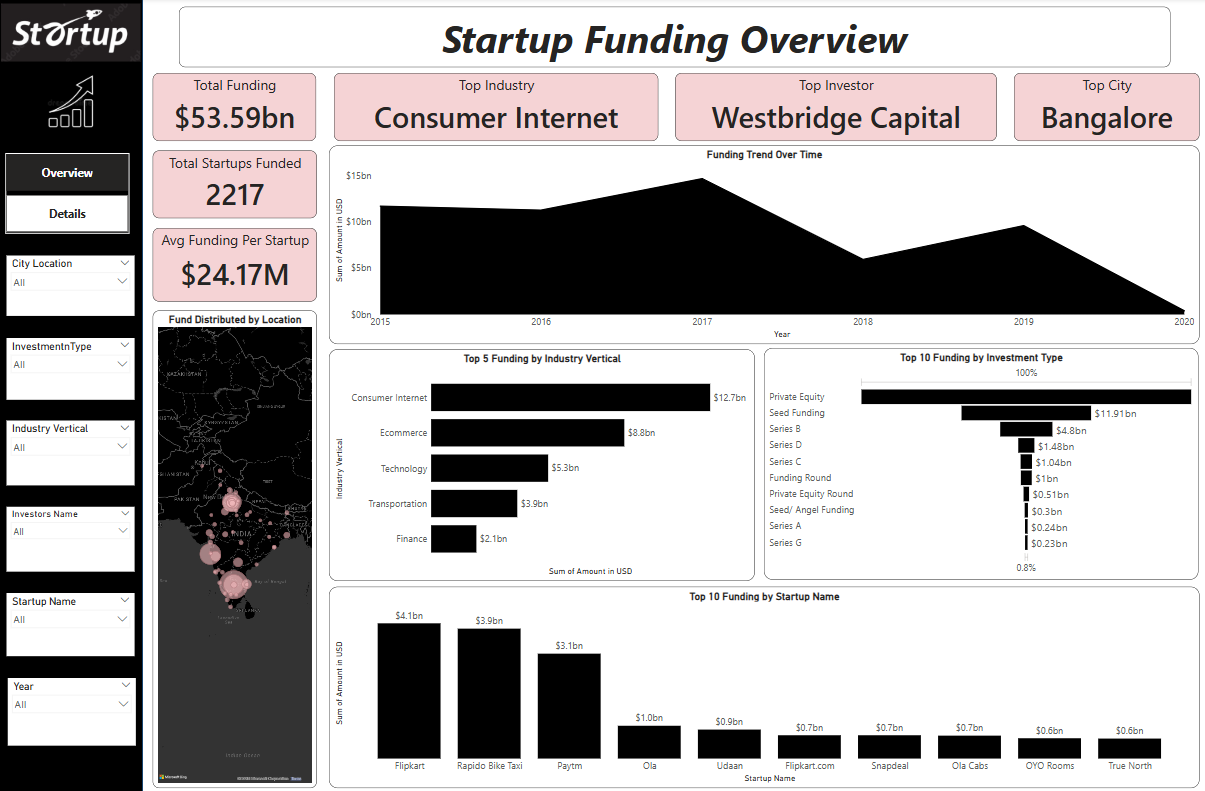

Layout of this report page (visuals, bound fields, positions):
{"tool":"powerbi","page":{"name":"Overview","canvas":[2800,1850],"ordinal":0},"visuals":[{"type":"shape","box":[0,0,333.3,1850],"z":0},{"type":"card","title":"Avg Funding Per Startup","fields":{"Values":["startup_funding.Avg Funding Per Startup"]},"box":[356.7,531.6,380,170],"z":1000},{"type":"card","title":"Top Industry","fields":{"Values":["startup_funding.Top Industry"]},"box":[776.4,172.4,751.1,157.8],"z":2000},{"type":"card","title":"Top City","fields":{"Values":["startup_funding.Top City"]},"box":[2351.3,172.4,429.2,157.8],"z":3000},{"type":"card","title":"Top Investor","fields":{"Values":["startup_funding.Top Investor"]},"box":[1565.4,172.4,744.8,157.8],"z":4000},{"type":"card","title":"Total Startups Funded","fields":{"Values":["startup_funding.Total Startups Funded"]},"box":[356.7,352.6,380,156.7],"z":5000},{"type":"card","title":"Total Funding","fields":{"Values":["startup_funding.Total Funding"]},"box":[356.6,172.4,378.7,157.8],"z":6000},{"type":"areaChart","title":"Funding Trend Over Time","fields":{"Category":["startup_funding.Date dd/mm/yyyy.Variation.Date Hierarchy.Year","startup_funding.Date dd/mm/yyyy.Variation.Date Hierarchy.Quarter","startup_funding.Date dd/mm/yyyy.Variation.Date Hierarchy.Month","startup_funding.Date dd/mm/yyyy.Variation.Date Hierarchy.Day"],"Y":["Sum(startup_funding.Amount in USD)"]},"box":[763.3,342.6,2016.7,460],"z":7000},{"type":"columnChart","title":"Top 10 Funding by Startup Name","fields":{"Category":["startup_funding.Startup Name"],"Y":["Sum(startup_funding.Amount in USD)"]},"box":[763.3,1364,2016.7,466.7],"z":8000},{"type":"map","title":"Fund Distributed by Location","fields":{"Category":["startup_funding.City Location"],"Size":["Sum(startup_funding.Amount in USD)"]},"box":[356.7,724,380,1106.7],"z":9000},{"type":"funnel","title":"Top 10 Funding by Investment Type","fields":{"Category":["startup_funding.InvestmentnType"],"Y":["Sum(startup_funding.Amount in USD)"]},"box":[1773.3,810.7,1006.7,536.7],"z":10000},{"type":"barChart","title":"Top 5 Funding by Industry Vertical","fields":{"Category":["startup_funding.Industry Vertical"],"Y":["Sum(startup_funding.Amount in USD)"]},"box":[763.3,815,986.7,536.7],"z":11000},{"type":"pageNavigator","box":[15.8,358.7,288,187.5],"z":12000},{"type":"slicer","fields":{"Values":["startup_funding.City Location"]},"box":[16.7,596.3,296.7,140],"z":13000},{"type":"slicer","fields":{"Values":["startup_funding.InvestmentnType"]},"box":[16.7,786.4,296.7,143.3],"z":14000},{"type":"slicer","fields":{"Values":["startup_funding.Industry Vertical"]},"box":[16.7,979.8,296.7,150],"z":15000},{"type":"slicer","fields":{"Values":["startup_funding.Investors Name"]},"box":[16.7,1179.8,296.7,150],"z":16000},{"type":"slicer","fields":{"Values":["startup_funding.Startup Name"]},"box":[16.7,1379.9,296.7,146.7],"z":17000},{"type":"slicer","fields":{"Values":["startup_funding.Year"]},"box":[20,1576.7,296.7,156.7],"z":18000},{"type":"image","box":[0,0,333.3,160],"z":19000},{"type":"image","box":[16.7,160,300,170],"z":20000},{"type":"textbox","box":[416.7,20,2296.7,140],"z":21000}]}

Visuals, with their boxes in screenshot pixels (x1, y1, x2, y2), scaled from the page's 2800x1850 canvas onto the 1205x791 screenshot:
shape: 0,0,143,790
"Avg Funding Per Startup" card: 154,227,317,300
"Top Industry" card: 334,74,657,141
"Top City" card: 1012,74,1197,141
"Top Investor" card: 674,74,994,141
"Total Startups Funded" card: 154,151,317,218
"Total Funding" card: 153,74,316,141
"Funding Trend Over Time" areaChart: 328,146,1196,343
"Top 10 Funding by Startup Name" columnChart: 328,583,1196,783
"Fund Distributed by Location" map: 154,310,317,783
"Top 10 Funding by Investment Type" funnel: 763,347,1196,576
"Top 5 Funding by Industry Vertical" barChart: 328,348,753,578
pageNavigator: 7,153,131,234
slicer - startup_funding.City Location: 7,255,135,315
slicer - startup_funding.InvestmentnType: 7,336,135,398
slicer - startup_funding.Industry Vertical: 7,419,135,483
slicer - startup_funding.Investors Name: 7,504,135,569
slicer - startup_funding.Startup Name: 7,590,135,653
slicer - startup_funding.Year: 9,674,136,741
image: 0,0,143,68
image: 7,68,136,141
textbox: 179,9,1168,68
